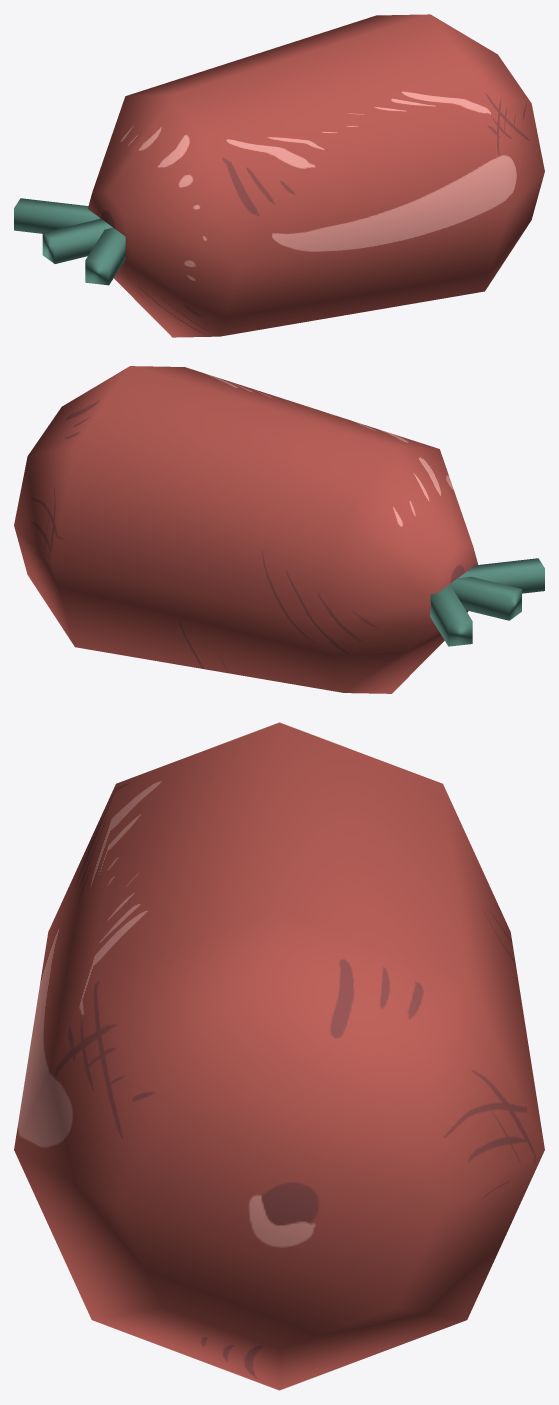
The model's file is BossDrop_Plant.fbx.
The picture shows the model from 3 angles, top to bottom: view 1: azimuth 30°, elevation 25°; view 2: azimuth 150°, elevation 25°; view 3: azimuth 270°, elevation 25°; orthographic projection. The views are drawn at different scales.
Parts seen in each view (by area): view 1: pCylinder1, pCube1, pCube4, pCube3; view 2: pCylinder1, pCube4, pCube3, pCube1; view 3: pCylinder1.
Part boxes in pixels (x1,y1,x2,y2): pCylinder1: [88, 14, 544, 337]; pCube1: [14, 198, 100, 233]; pCube4: [42, 218, 112, 263]; pCube3: [85, 227, 125, 285]; pCylinder1: [14, 366, 478, 693]; pCube4: [450, 576, 521, 620]; pCube3: [458, 558, 544, 593]; pCube1: [430, 584, 472, 646]; pCylinder1: [14, 722, 544, 1390].
Size of the model in its own units: 4.41 by 2.62 by 2.62.
1 material, 1 textured.
